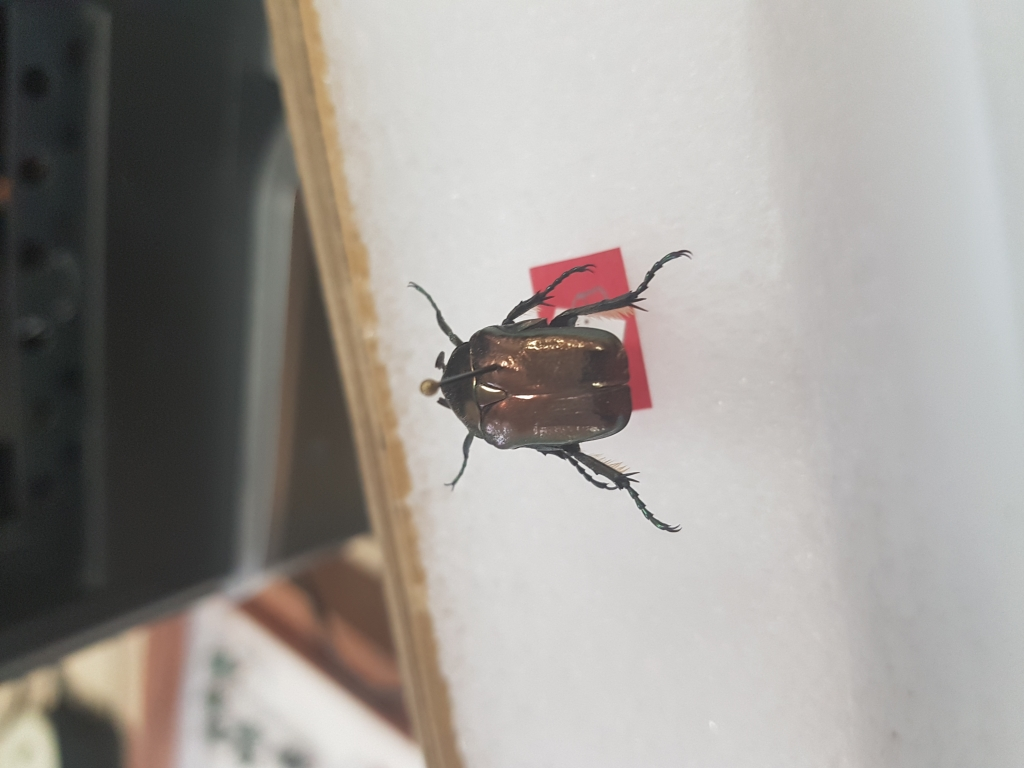Protaetia_besucheti: (376, 233, 711, 546)
